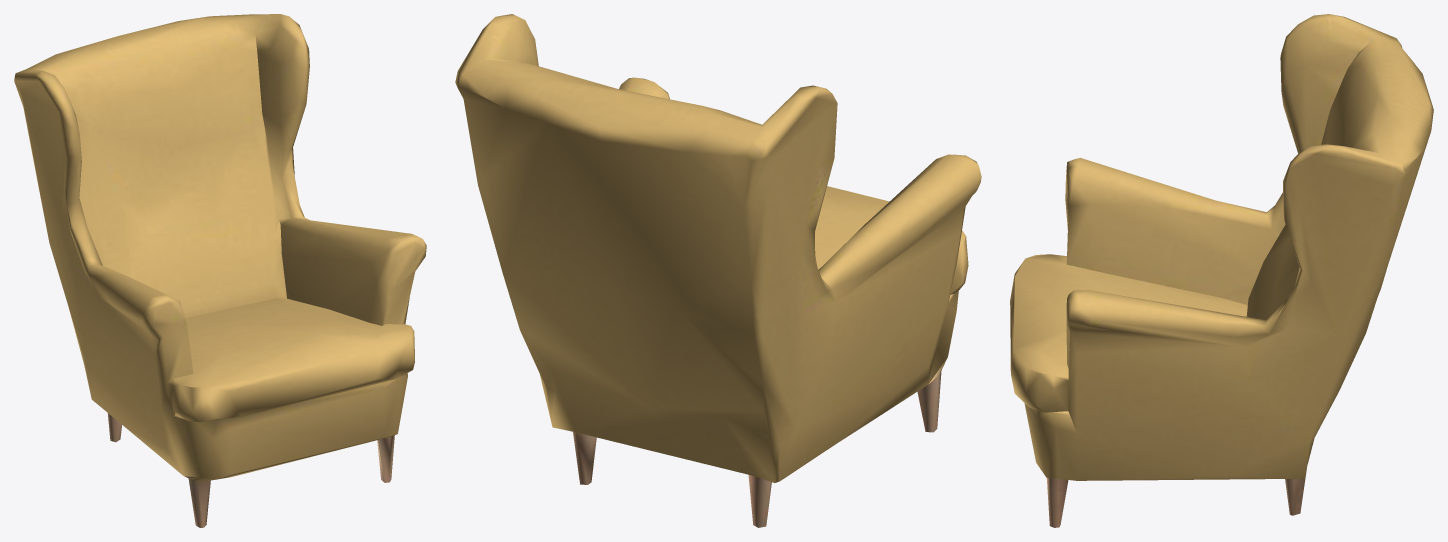
Rendered from 10 - STRANDMON Wing chair - Tibbleby yellow.glb.
3 renders of one model, left to right at view 1: azimuth 30°, elevation 25°; view 2: azimuth 150°, elevation 25°; view 3: azimuth 270°, elevation 25°, orthographic. The views are drawn at different scales.
Visible parts, largest first — view 1: ASY_ART_00613165_S01_NV01; view 2: ASY_ART_00613165_S01_NV01; view 3: ASY_ART_00613165_S01_NV01.
Part boxes in pixels (x1,y1,x2,y2): ASY_ART_00613165_S01_NV01: (14, 14, 426, 527); ASY_ART_00613165_S01_NV01: (455, 14, 981, 527); ASY_ART_00613165_S01_NV01: (1010, 14, 1433, 527).
Bounding box in the file's own units: 0.815 × 1.01 × 0.9785.
1 material, 1 textured.
